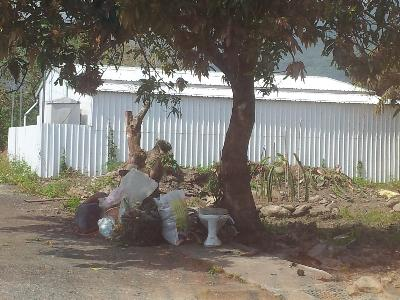plastic_bag: (97, 167, 159, 221), (151, 188, 191, 247)
toilet: (196, 207, 233, 247)
